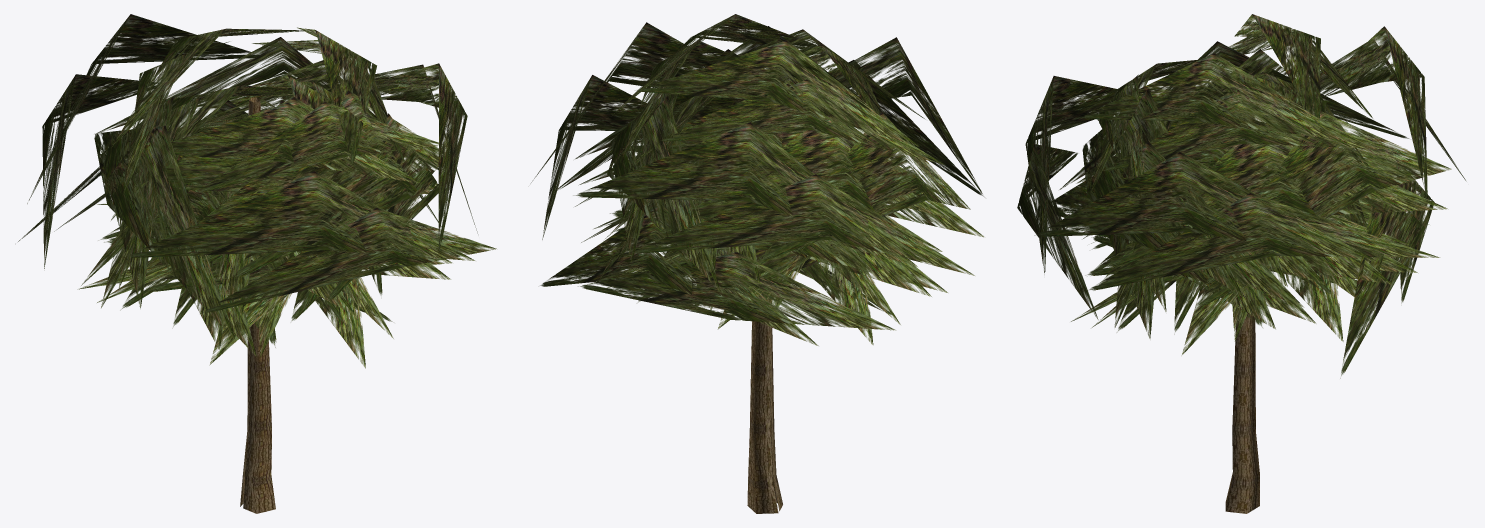
Rendered from tree_test.glb.
3 renders of one model, left to right at view 1: azimuth 30°, elevation 25°; view 2: azimuth 150°, elevation 25°; view 3: azimuth 270°, elevation 25°, orthographic.
Parts seen in each view (by area): view 1: Tree_Pine_T1_Tree_Pine_0, Tree_Pine_T1_Tree_Pine_0.002; view 2: Tree_Pine_T1_Tree_Pine_0, Tree_Pine_T1_Tree_Pine_0.002; view 3: Tree_Pine_T1_Tree_Pine_0, Tree_Pine_T1_Tree_Pine_0.002.
Part boxes in pixels (x1,y1,x2,y2): Tree_Pine_T1_Tree_Pine_0: (18,14,496,368); Tree_Pine_T1_Tree_Pine_0.002: (240,97,275,513); Tree_Pine_T1_Tree_Pine_0: (530,14,983,345); Tree_Pine_T1_Tree_Pine_0.002: (747,257,782,513); Tree_Pine_T1_Tree_Pine_0: (1017,14,1466,378); Tree_Pine_T1_Tree_Pine_0.002: (1225,114,1259,513).
Size of the model in its own units: 10.86 by 12.3 by 10.53.
Materials: 2 (2 with a texture image).
